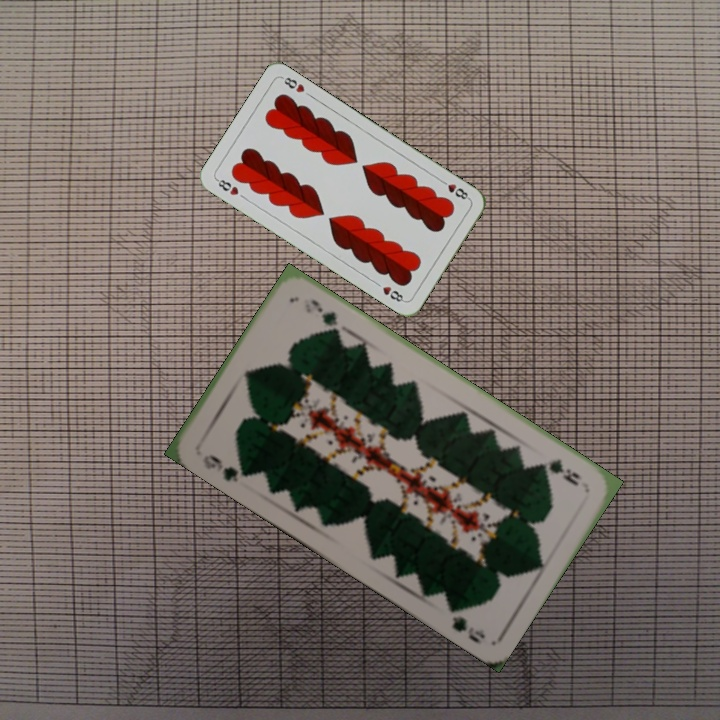G9: (198, 450, 251, 485), (536, 455, 583, 489)
H8: (436, 176, 472, 202), (212, 175, 241, 198)
